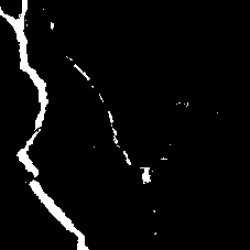crack: (0, 2, 49, 128), (28, 180, 89, 249), (17, 130, 39, 178), (108, 113, 119, 146), (142, 168, 150, 182), (125, 149, 131, 164)
pinhole: (52, 23, 106, 102)
